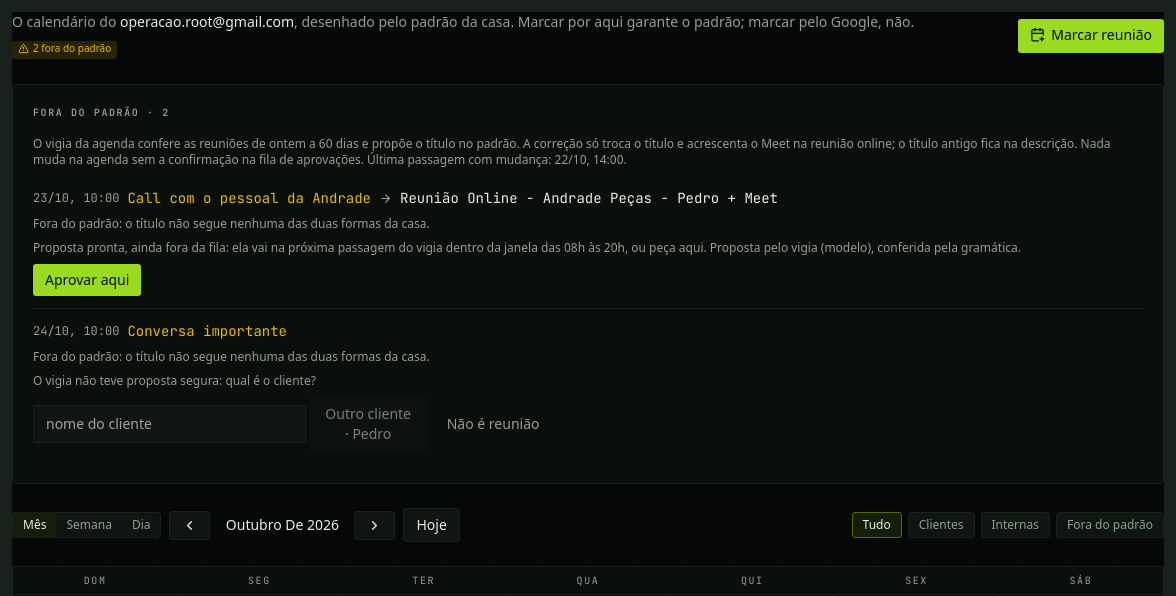
/agenda com o vigia › "Aprovar aqui" vai à mesma porta e a tela diz que espera a OUTRA pessoa
Step 1. Click the button "Aprovar aqui" → (87, 280), box top-left (33, 264), bottom-right (141, 296)
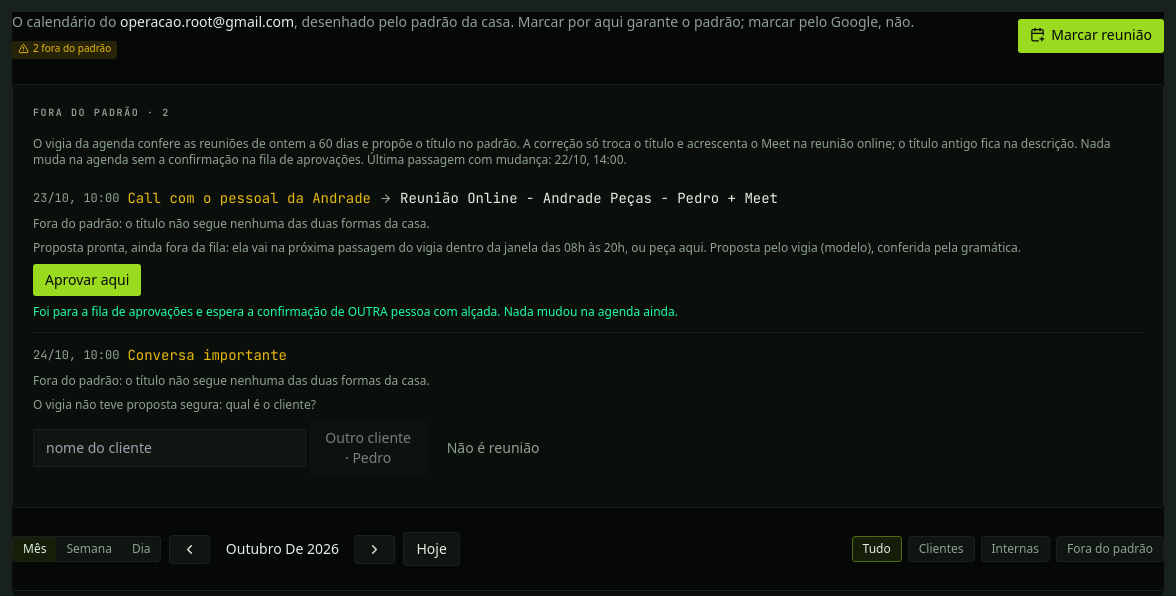
Expected: the text "espera a confirmação de OUTRA pessoa com alçada. Nada mudou na agenda ainda." is shown, top-left (33, 303), bottom-right (678, 320)
